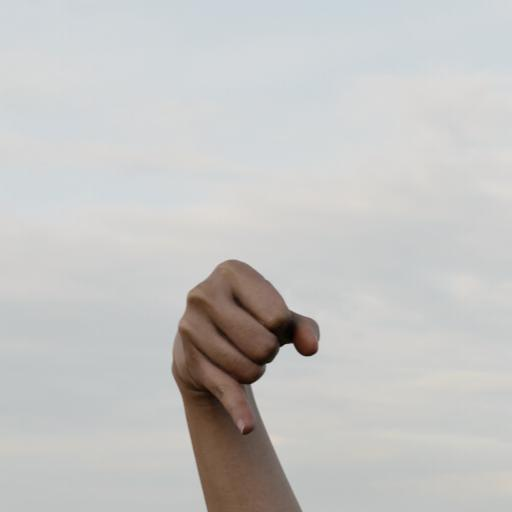J: (157, 250, 333, 456)
